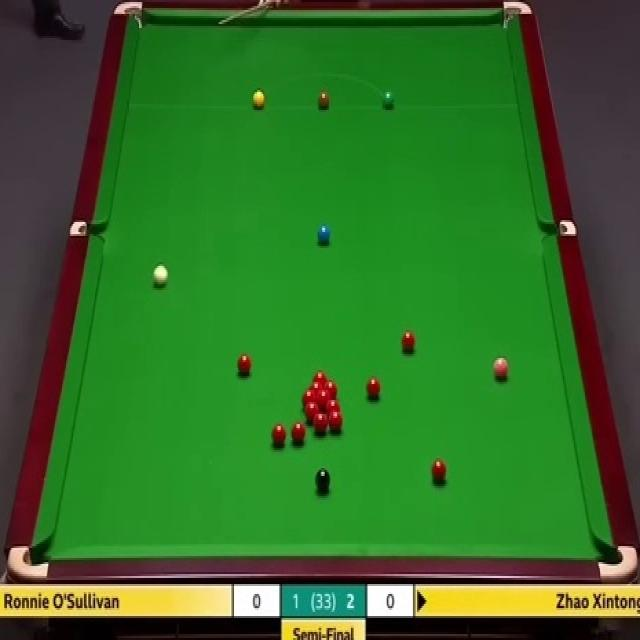black-ball: (315, 467, 331, 493)
blue-ball: (317, 224, 330, 242)
brown-ball: (317, 92, 330, 109)
green-ball: (382, 88, 396, 112)
pink-ball: (492, 356, 508, 379)
red-ball: (430, 457, 448, 484), (366, 376, 382, 401), (312, 410, 326, 438), (401, 330, 417, 352), (271, 425, 287, 447), (305, 403, 321, 425), (238, 353, 252, 378), (301, 390, 317, 411), (327, 398, 341, 422), (328, 411, 343, 433), (323, 379, 337, 402), (318, 389, 332, 410), (292, 423, 306, 442), (312, 372, 330, 385), (309, 380, 321, 396)
white-ball: (152, 263, 168, 288)
yellow-ball: (252, 89, 266, 110)
